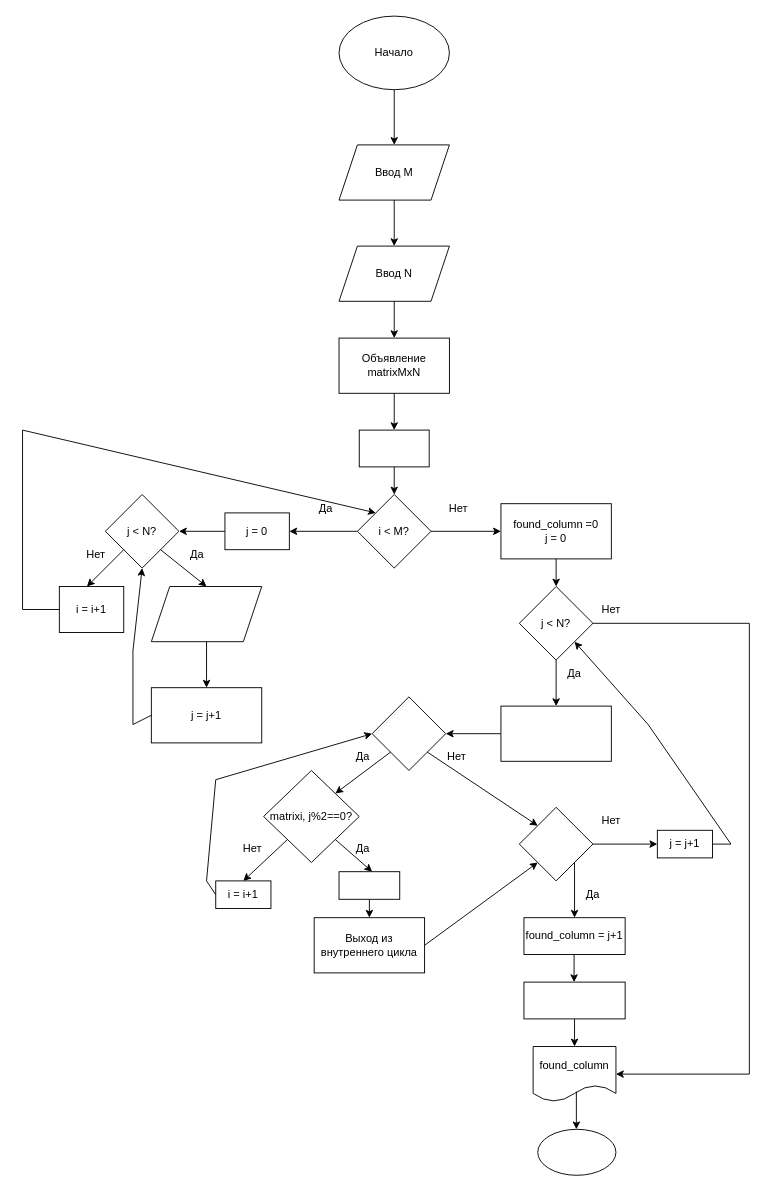
Image size: 773x1191. Some labels were removed from this diagram. Each missing label, with the centre of its shape:
all_odd = 0: pixel 369 885
all_odd = 1 i = 0: pixel 555 733
all_odd = 1?: pixel 555 843
i <M?: pixel 408 733
i = 0: pixel 393 448
Ввод matrixi, j: pixel 206 614
Выход из внешнего цикла: pixel 574 1000
Конец: pixel 576 1151
